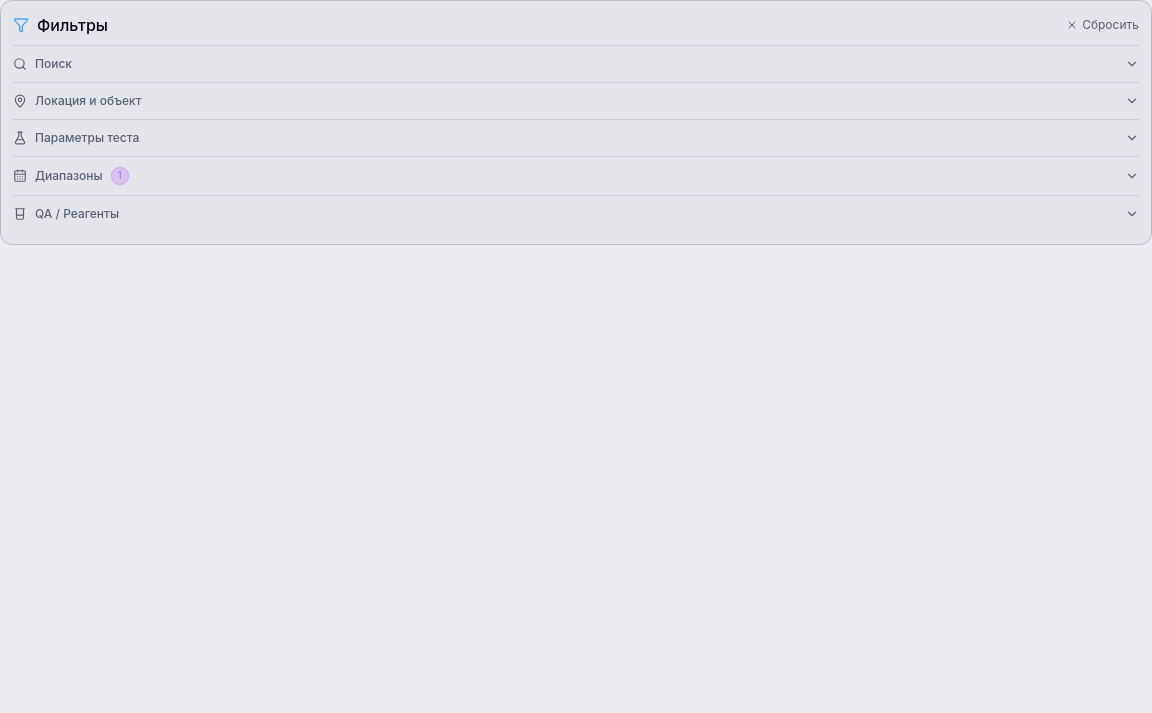
Test: ExperimentFilters — touch-point section › hasCrossing toggle label reflects the active threshold
Step 1. Click the button "Диапазоны 1" → (69, 176), box [13,157,1139,195]
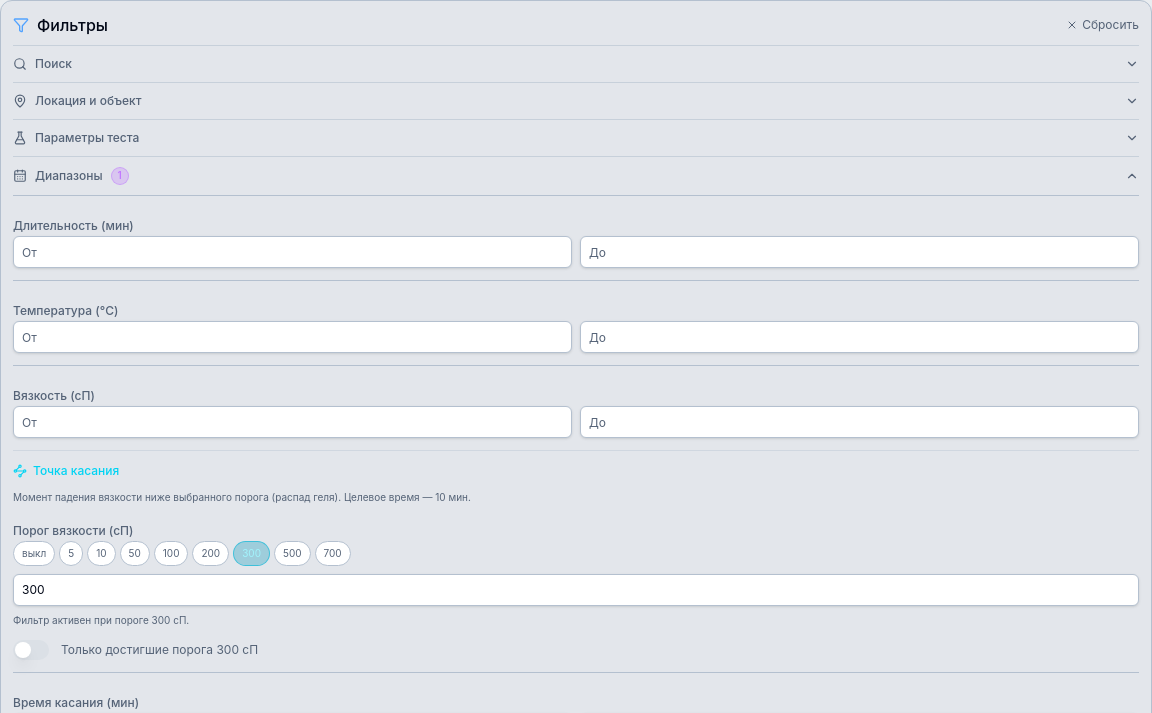
Expected: the text "Только достигшие порога 300 сП" is shown, [61,642,258,658]
